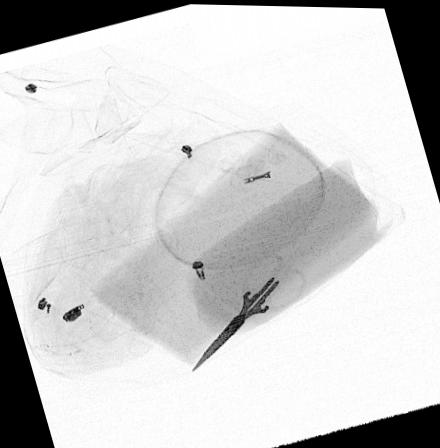Scissors: (193, 250, 307, 372)
